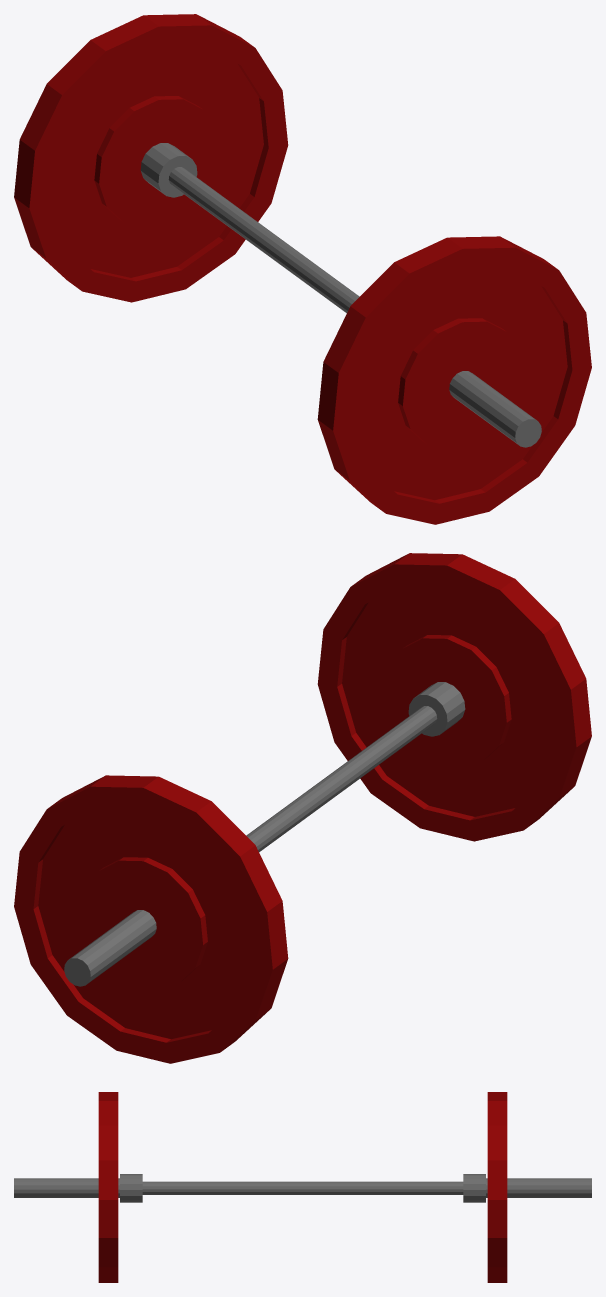
Rendered from Barbell.fbx.
3 renders of one model, top to bottom at view 1: azimuth 30°, elevation 25°; view 2: azimuth 150°, elevation 25°; view 3: azimuth 270°, elevation 25°, orthographic. The views are drawn at different scales.
Visible parts, largest first — view 1: Barbell; view 2: Barbell; view 3: Barbell.
Boxes of the visible parts, <box> form: Barbell: <box>14,14,591,524</box>; Barbell: <box>14,553,591,1063</box>; Barbell: <box>14,1092,591,1282</box>.
Size of the model in its own units: 44.52 by 44.28 by 134.
